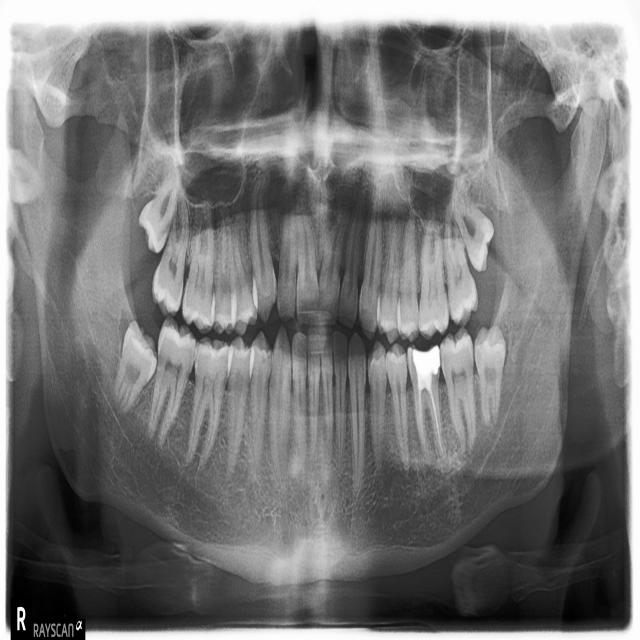mandibula: (7, 88, 609, 588)
